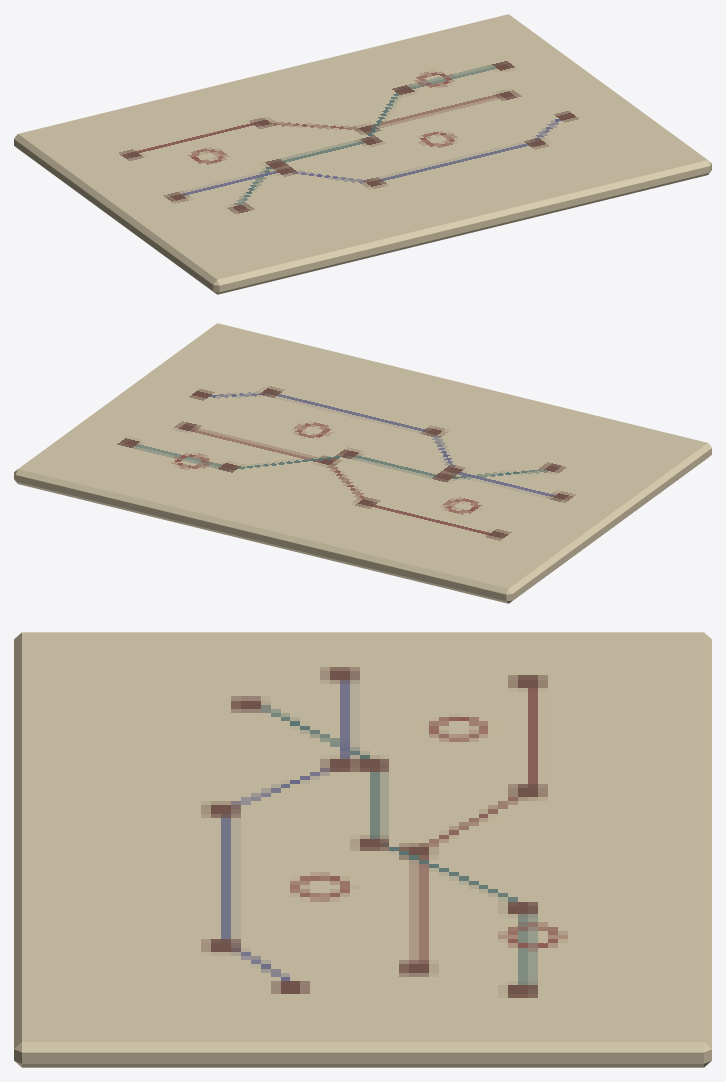
Rendered from survivormap.glb.
3 renders of one model, top to bottom at view 1: azimuth 30°, elevation 25°; view 2: azimuth 150°, elevation 25°; view 3: azimuth 270°, elevation 25°, orthographic. The views are drawn at different scales.
Parts seen in each view (by area): view 1: block_schematic routes, block_folded route chart; view 2: block_schematic routes, block_folded route chart; view 3: block_schematic routes, block_folded route chart.
Part boxes in pixels (box(x1,y1,x2,y2)): block_schematic routes: box(45, 23, 678, 267); block_folded route chart: box(14, 14, 711, 294); block_schematic routes: box(46, 333, 679, 576); block_folded route chart: box(14, 323, 711, 603); block_schematic routes: box(52, 646, 676, 1022); block_folded route chart: box(14, 632, 711, 1067).
Bounding box in the file's own units: 0.2495 × 0.0078 × 0.1767.
Materials: 1 (1 with a texture image).
